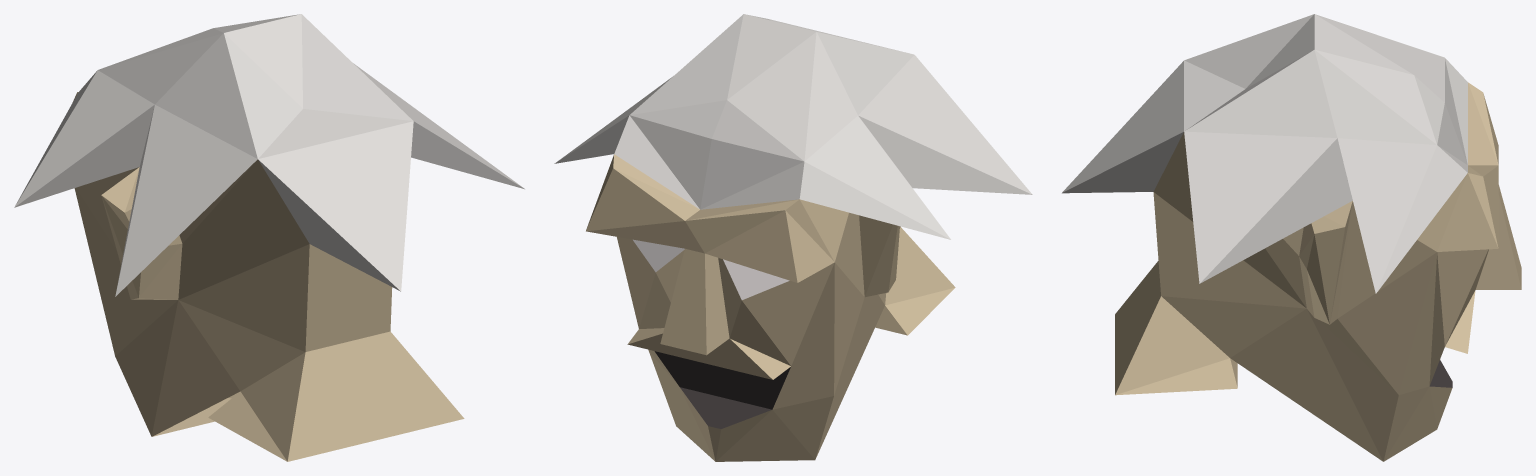
Rendered from npc_world_fycie_1.obj.
The picture shows the model from 3 angles, left to right: view 1: azimuth 30°, elevation 25°; view 2: azimuth 150°, elevation 25°; view 3: azimuth 270°, elevation 25°; orthographic projection. The views are drawn at different scales.
Bounding box in the file's own units: 0.4688 × 0.4453 × 0.4688.
